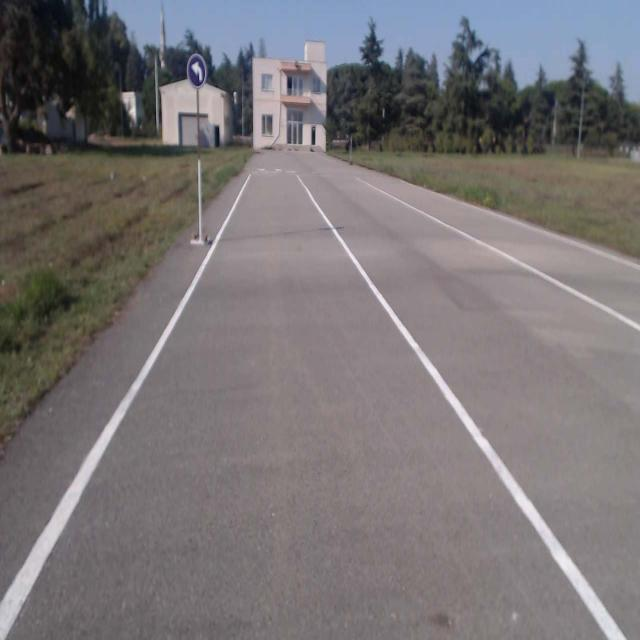sol: (186, 53, 206, 89)
